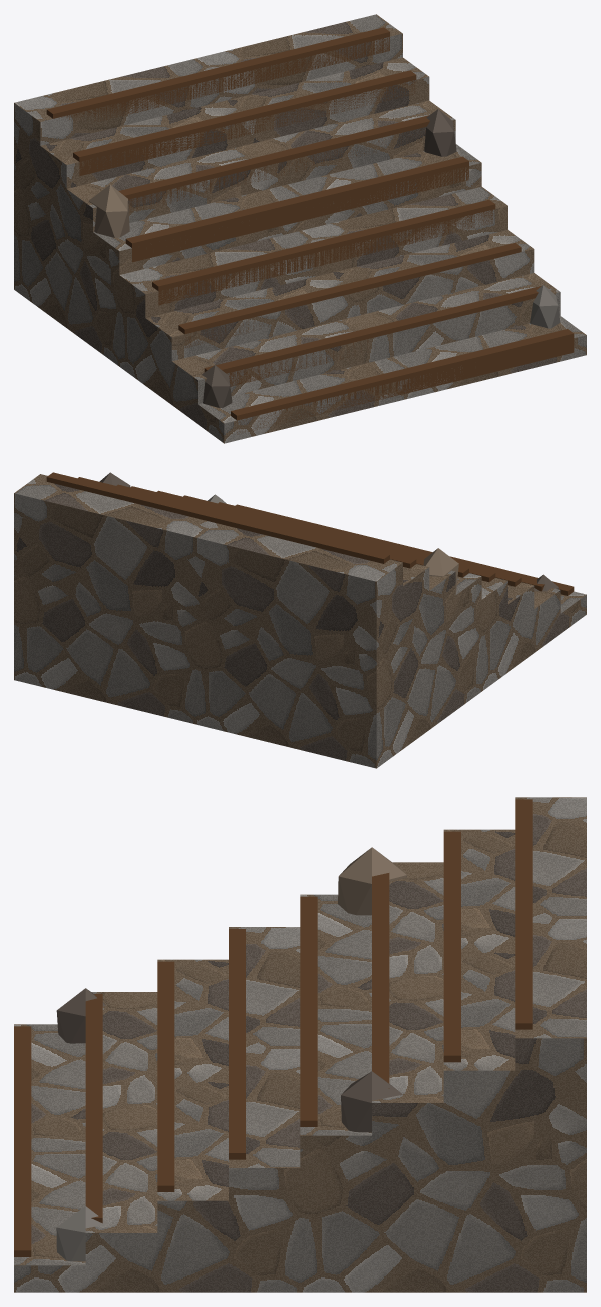
File: mine_stairs.glb
3 views of the same model, one above another, from view 1: azimuth 30°, elevation 25°; view 2: azimuth 150°, elevation 25°; view 3: azimuth 270°, elevation 25° (orthographic). The views are drawn at different scales.
Parts seen in each view (by area): view 1: mine_stairs; view 2: mine_stairs; view 3: mine_stairs.
Boxes of the visible parts, x1=… form: mine_stairs: x1=14, y1=14, x2=586, y2=443; mine_stairs: x1=14, y1=472, x2=586, y2=768; mine_stairs: x1=14, y1=797, x2=586, y2=1292.
Size of what is drawn, in the model's own units: 3.98 by 2.01 by 4.
Materials: 5 (1 with a texture image).
